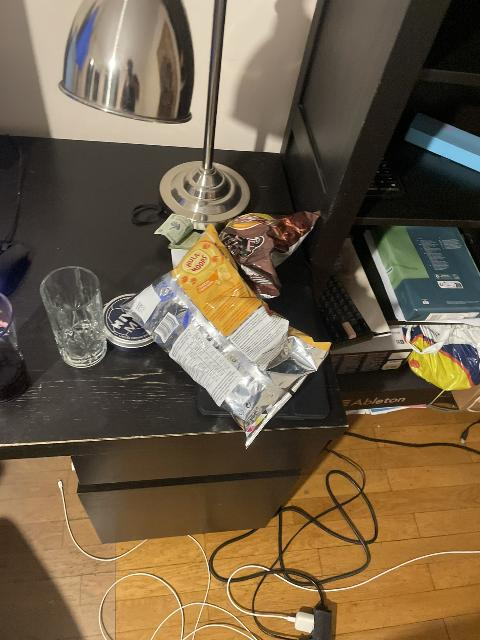Chio Hula Hoops Cheese 70g: (126, 226, 330, 447)
Lays Beef Grilled Ribs 125g: (219, 212, 316, 298)
